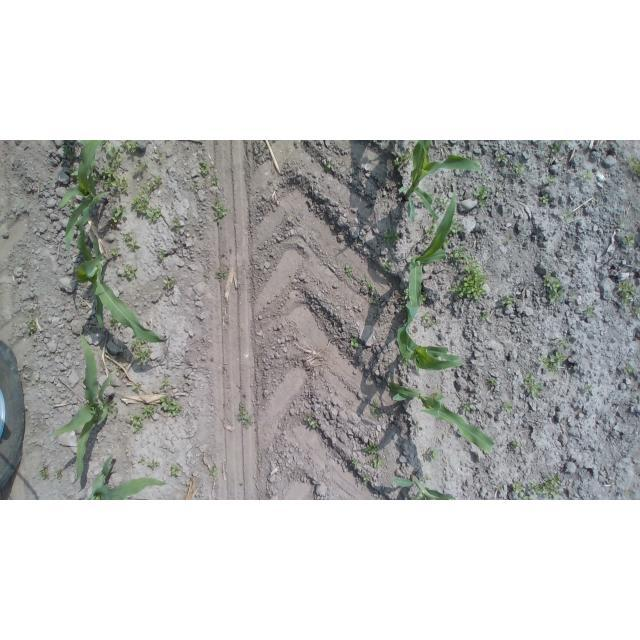Maize: (78, 225, 171, 344), (51, 332, 117, 483), (388, 381, 495, 455), (408, 188, 460, 327), (397, 141, 483, 222), (57, 141, 114, 252), (396, 293, 465, 375), (89, 457, 168, 500), (394, 472, 455, 500)
Weeds: (448, 244, 489, 300), (130, 176, 162, 214), (528, 472, 564, 500), (100, 164, 129, 195), (537, 352, 568, 376), (543, 274, 565, 302), (129, 337, 152, 363), (616, 281, 636, 307), (102, 141, 124, 163), (160, 396, 182, 417), (473, 185, 489, 212), (524, 374, 542, 398), (237, 404, 252, 429), (111, 204, 129, 224), (213, 196, 228, 220), (130, 413, 145, 434), (121, 264, 138, 281), (199, 159, 216, 176), (384, 227, 400, 245), (146, 205, 161, 224), (123, 231, 137, 251), (62, 140, 75, 160), (433, 194, 448, 211), (550, 140, 570, 152), (449, 218, 463, 235), (120, 141, 138, 154), (422, 313, 437, 328), (364, 441, 379, 456), (132, 159, 149, 172), (629, 156, 640, 176), (370, 400, 381, 419), (423, 448, 439, 461), (106, 402, 118, 419), (109, 318, 123, 332), (555, 335, 569, 349), (24, 318, 37, 333), (369, 455, 384, 468), (400, 152, 414, 165), (498, 295, 514, 306), (68, 164, 79, 180), (425, 224, 438, 237), (380, 259, 393, 272), (144, 403, 156, 417), (169, 463, 181, 477), (560, 207, 572, 221), (461, 399, 471, 415), (624, 232, 637, 244), (68, 196, 77, 213), (304, 416, 316, 428), (585, 305, 596, 318), (155, 150, 166, 163), (40, 465, 49, 479), (435, 392, 446, 403), (209, 175, 220, 186), (512, 483, 524, 493), (163, 278, 173, 290), (515, 163, 526, 173), (502, 402, 513, 412), (488, 377, 498, 388), (350, 337, 360, 348), (443, 236, 452, 248), (216, 270, 229, 278), (208, 466, 218, 476), (496, 152, 506, 162), (132, 382, 141, 393), (160, 379, 169, 390), (540, 194, 549, 205), (625, 364, 634, 375), (107, 248, 118, 257), (85, 237, 92, 251), (346, 264, 353, 277), (137, 456, 147, 465), (56, 468, 65, 478), (546, 176, 556, 185), (400, 355, 409, 365), (512, 440, 521, 450), (191, 183, 200, 193), (371, 298, 382, 306), (149, 460, 158, 469), (516, 496, 532, 501), (157, 251, 165, 261), (633, 306, 640, 317), (505, 237, 516, 244), (584, 172, 593, 180), (404, 288, 410, 300), (361, 276, 370, 284), (92, 172, 100, 181), (325, 162, 332, 172), (367, 285, 377, 292), (362, 475, 370, 483), (481, 312, 488, 321), (421, 292, 428, 301), (352, 460, 359, 469), (172, 221, 181, 228), (619, 219, 625, 229), (115, 365, 122, 373), (422, 244, 430, 251), (424, 476, 432, 483), (415, 427, 423, 434), (568, 293, 575, 300), (585, 385, 592, 392), (497, 487, 503, 494), (394, 158, 399, 165), (449, 152, 457, 156), (471, 156, 477, 161), (483, 176, 488, 182), (79, 148, 84, 153), (631, 492, 636, 497), (457, 360, 463, 364), (206, 496, 209, 500), (412, 149, 414, 152)
